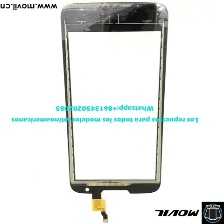phone: (57, 0, 170, 196)
